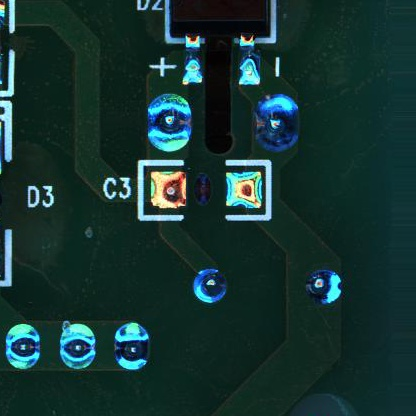spot: (253, 93, 300, 154), (146, 92, 191, 151), (112, 320, 151, 370), (58, 319, 95, 368), (4, 324, 42, 369), (303, 269, 342, 305), (193, 268, 227, 304)
